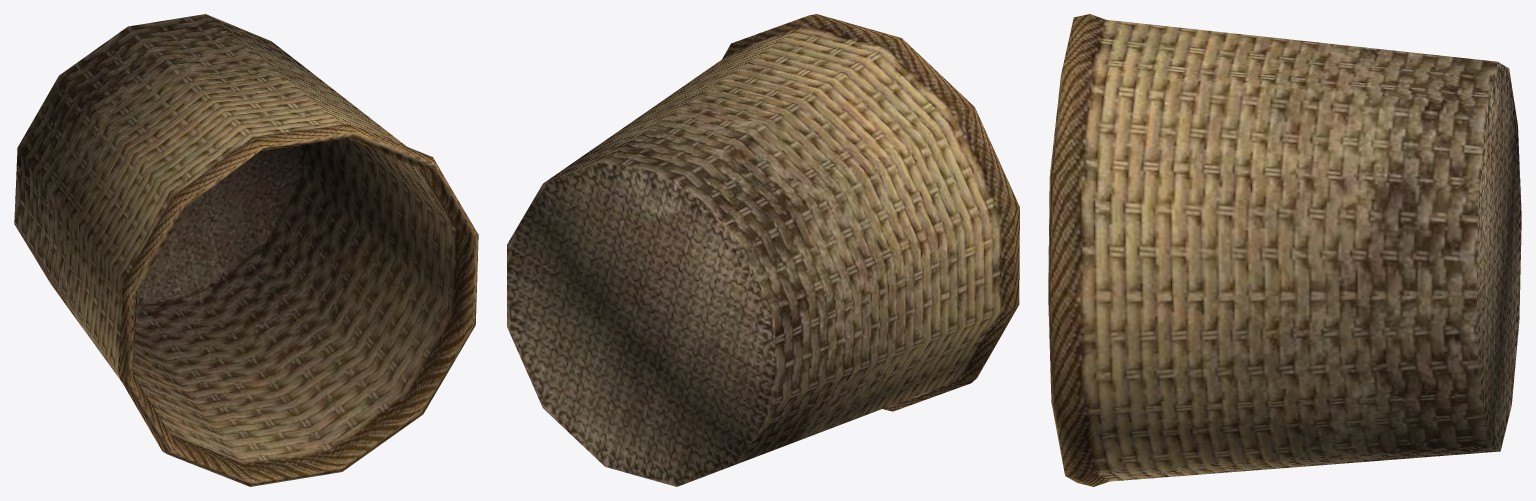
File: resourcebasket-base.glb
3 views of the same model, side by side, from view 1: azimuth 30°, elevation 25°; view 2: azimuth 150°, elevation 25°; view 3: azimuth 270°, elevation 25° (orthographic). The views are drawn at different scales.
Bounding box in the file's own units: 0.4441 × 0.4438 × 0.4484.
Materials: 1 (1 with a texture image).
